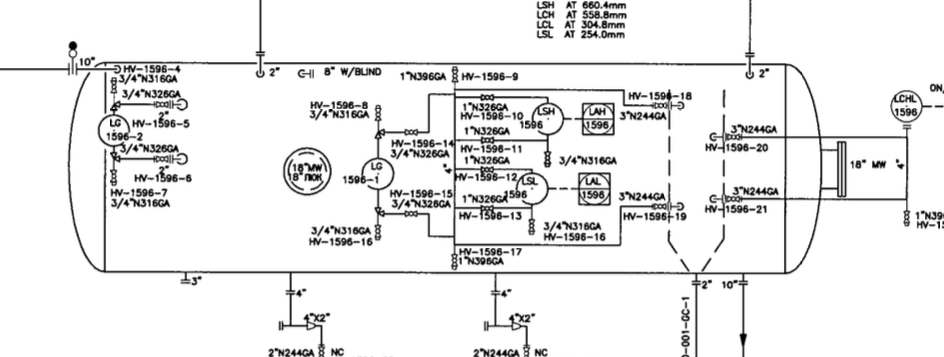Instrument-offset: (343, 155, 397, 192), (500, 172, 557, 207), (518, 99, 570, 137), (98, 113, 147, 146), (886, 87, 924, 125)
Instrument-square-offset: (578, 98, 617, 138), (575, 168, 613, 207)
